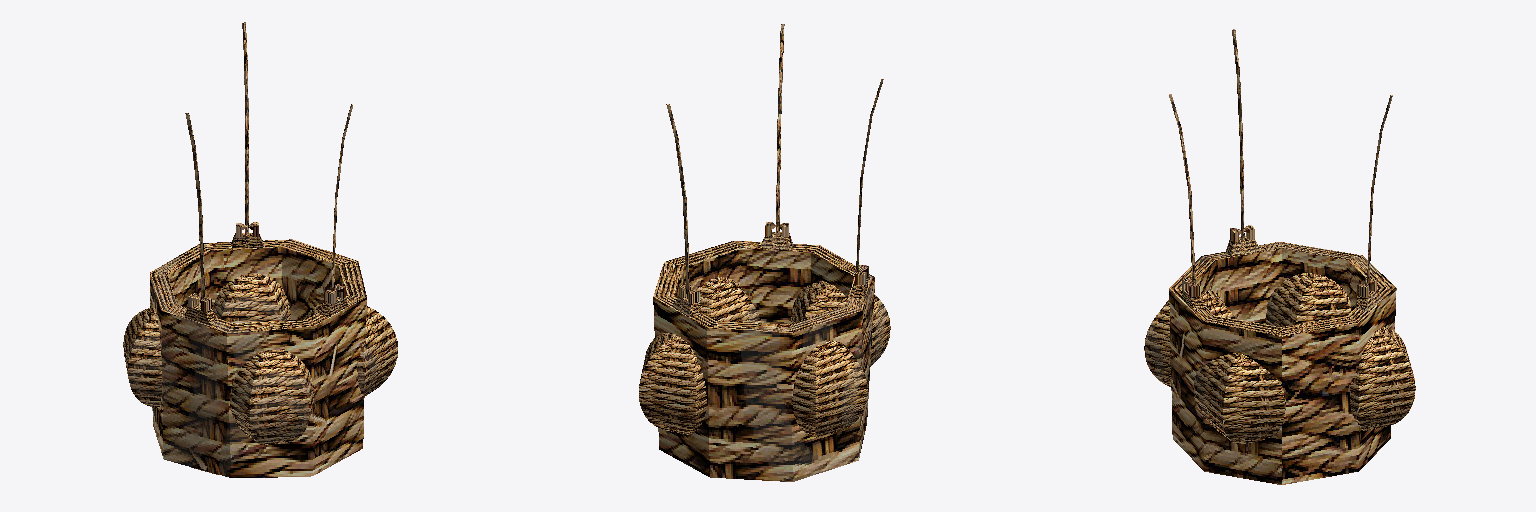
3 views of the same model, side by side, from view 1: azimuth 30°, elevation 25°; view 2: azimuth 150°, elevation 25°; view 3: azimuth 270°, elevation 25° (orthographic).
Parts seen in each view (by area): view 1: pPipe1, pSphere1, pSphere3, pSphere2, pSphere4, pCylinder2, pCylinder4, pCube3, pCube2, pCube1; view 2: pPipe1, pSphere3, pSphere2, pSphere1, pSphere4, pCylinder3, pCylinder2, pCube2, pCube1; view 3: pPipe1, pSphere4, pSphere2, pSphere3, pSphere1, pCylinder4, pCube3, pCylinder3, pCube1, pCube2.
Part boxes in pixels (x1,y1,x2,y2): pPipe1: (150,239,366,477); pSphere1: (230,350,314,444); pSphere3: (123,307,161,407); pSphere2: (213,274,290,322); pSphere4: (305,303,397,395); pCylinder2: (242,22,248,234); pCylinder4: (185,113,204,298); pCube3: (185,293,218,325); pCube2: (318,284,347,316); pCube1: (231,222,263,247); pPipe1: (653,241,874,481); pSphere3: (792,340,867,437); pSphere2: (639,333,706,434); pSphere1: (791,281,890,366); pSphere4: (697,277,760,322); pCylinder3: (776,24,784,235); pCylinder2: (666,104,689,298); pCube2: (760,222,792,250); pCube1: (672,284,701,317); pPipe1: (1169,242,1396,484); pSphere4: (1193,353,1285,443); pSphere2: (1350,327,1415,430); pSphere3: (1266,273,1352,326); pSphere1: (1144,291,1235,386); pCylinder4: (1232,29,1244,241); pCube3: (1226,225,1260,256); pCylinder3: (1169,94,1195,283); pCube1: (1356,278,1382,311); pCube2: (1181,277,1206,309).
Bounding box in the file's own units: 8.35 × 12.74 × 8.62.
Materials: 1 (1 with a texture image).